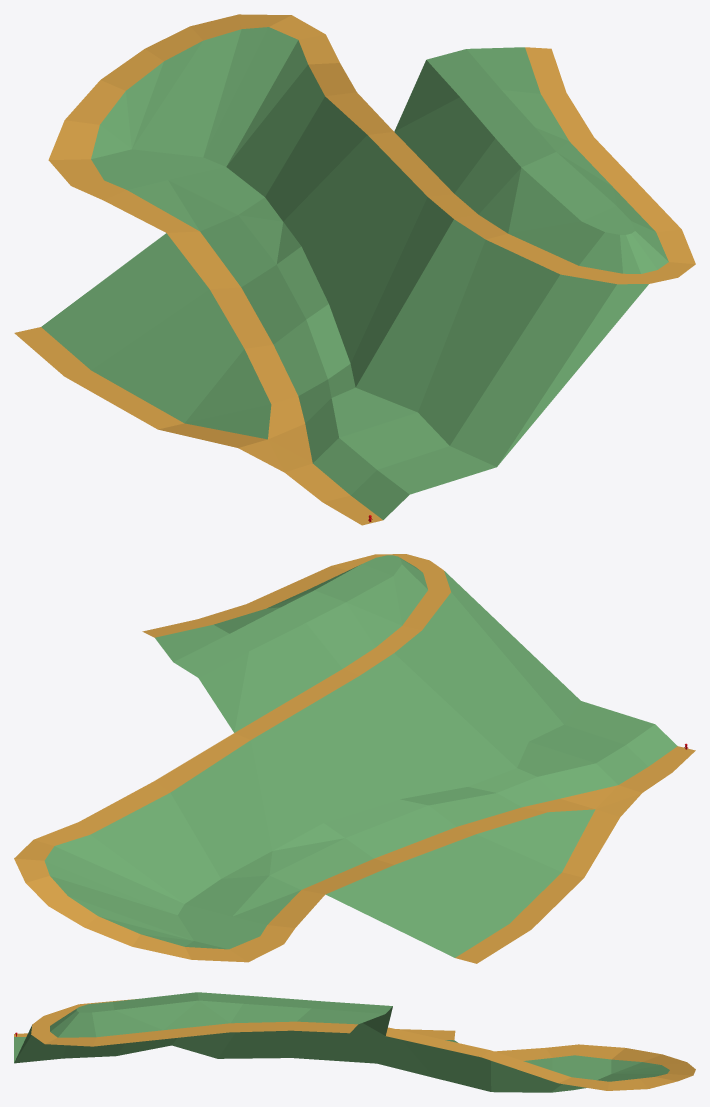
Rendered from Fotografia mapa V1.fbx.
3 views of the same model, one above another, from view 1: azimuth 30°, elevation 25°; view 2: azimuth 150°, elevation 25°; view 3: azimuth 270°, elevation 25° (orthographic). The views are drawn at different scales.
Visible parts, largest first — view 1: Plane; view 2: Plane; view 3: Plane.
Part boxes in pixels (left/top/right/bottom): Plane: left=14, top=14, right=695, bottom=525; Plane: left=14, top=554, right=695, bottom=963; Plane: left=14, top=992, right=695, bottom=1092.
Bounding box in the file's own units: 713 × 326 × 1222.
